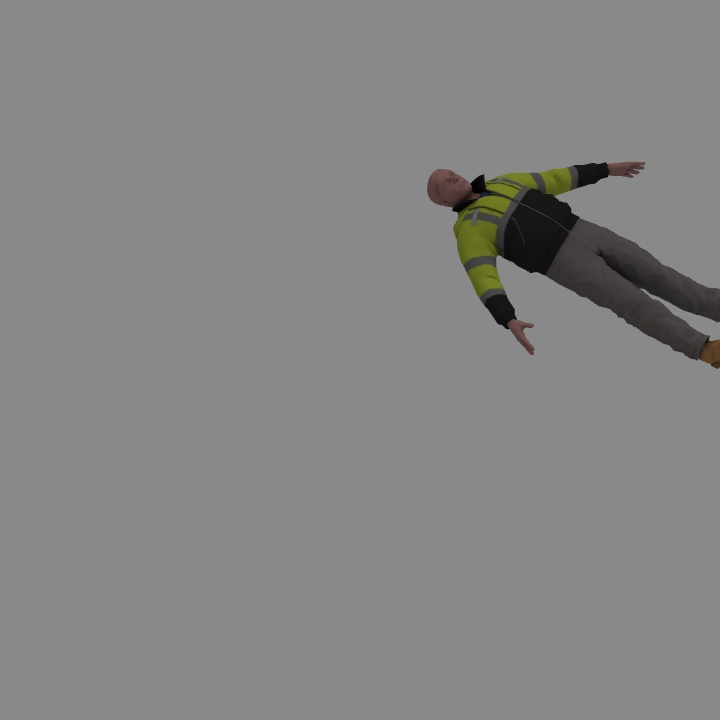victim: (433, 161, 720, 362)
